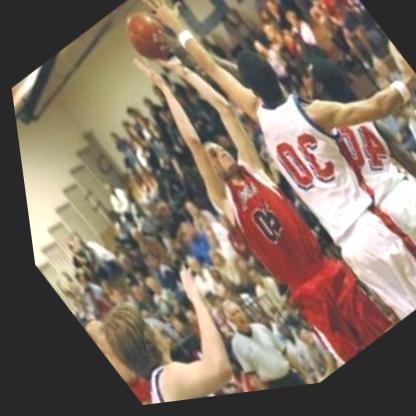basketball: (108, 0, 185, 74)
